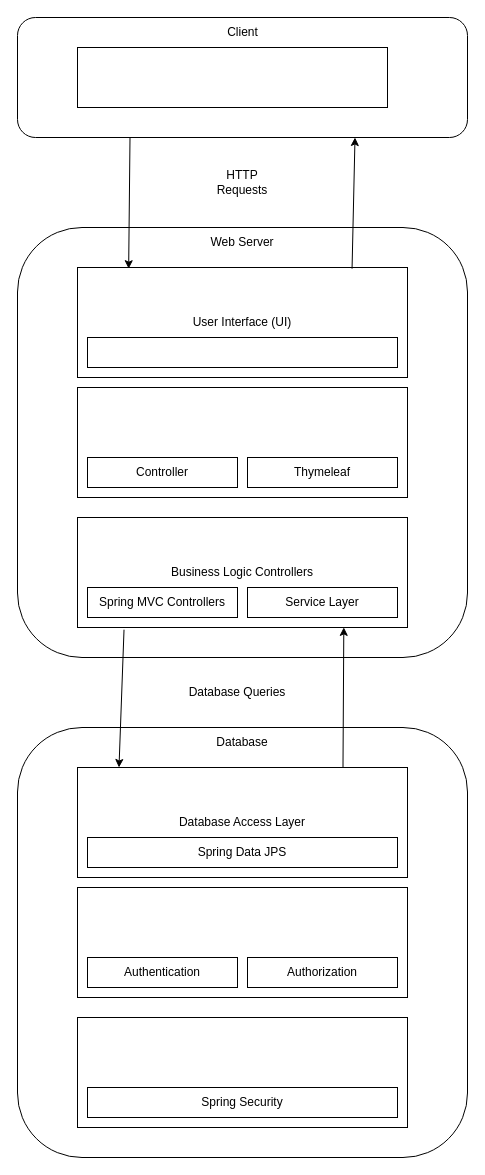
Some shapes in this 485 by 1175 pixel diagram are drawn without their labels. The shapes that lost their labels are listed below. From the top down, each one's box as (x1, y1, x2, y2) in pixels, then its label:
(76, 46, 388, 108): Web Browser (HTML,CSS,JS)
(86, 336, 398, 368): Thymeleaf Templates
(76, 386, 408, 498): Web Server (Spring Boot)
(76, 886, 408, 998): Security Configuration
(76, 1016, 408, 1128): Authentication Server
